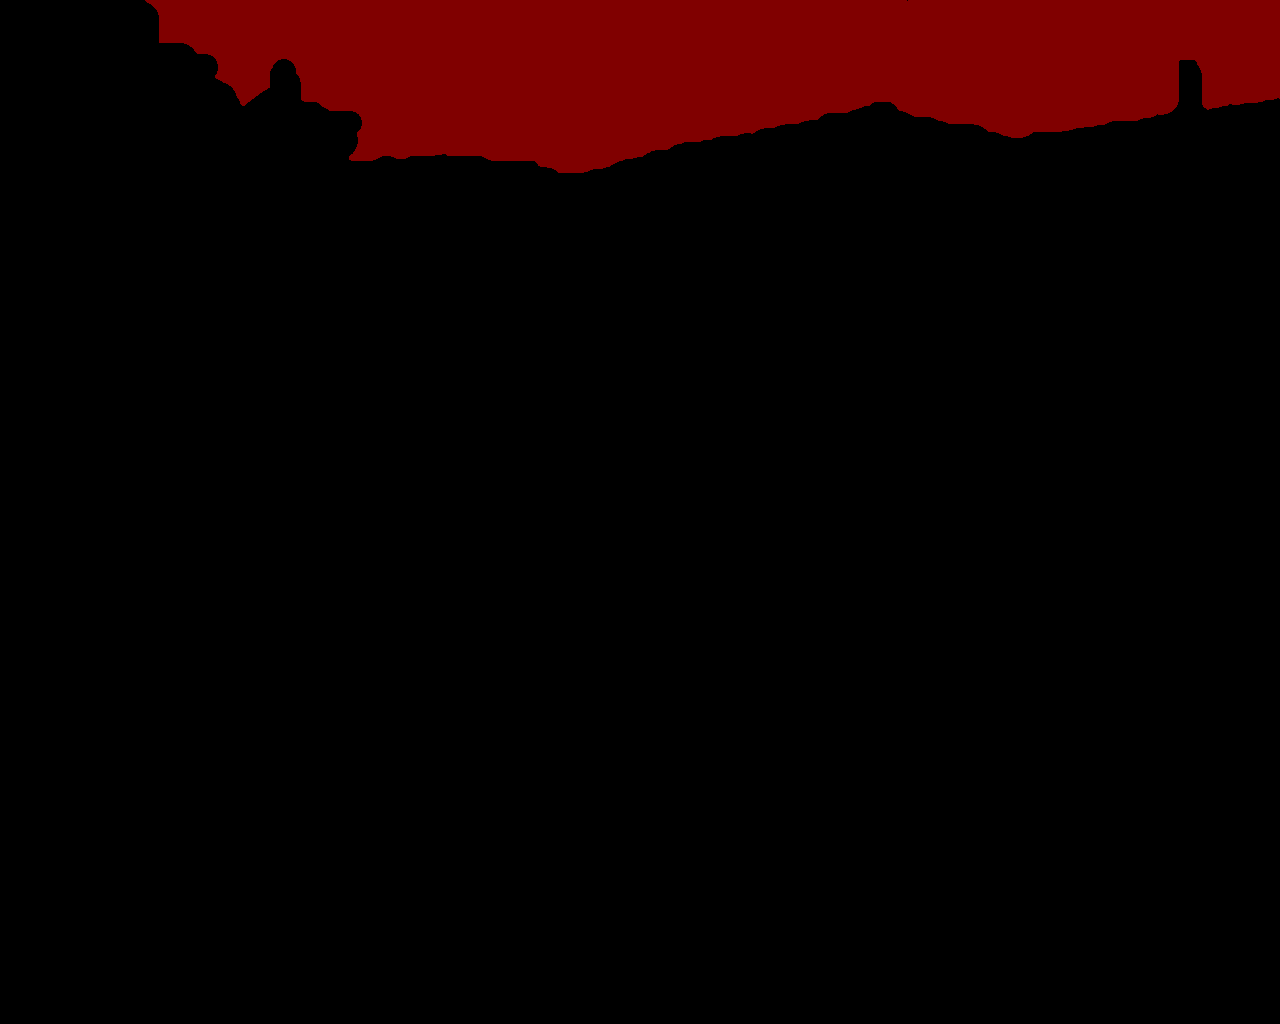Sky: (146, 1, 1279, 173)
